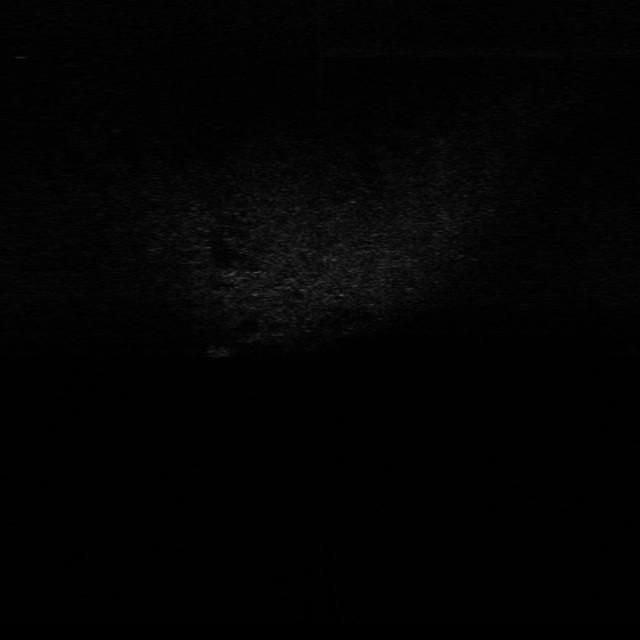cube: (203, 340, 238, 362)
